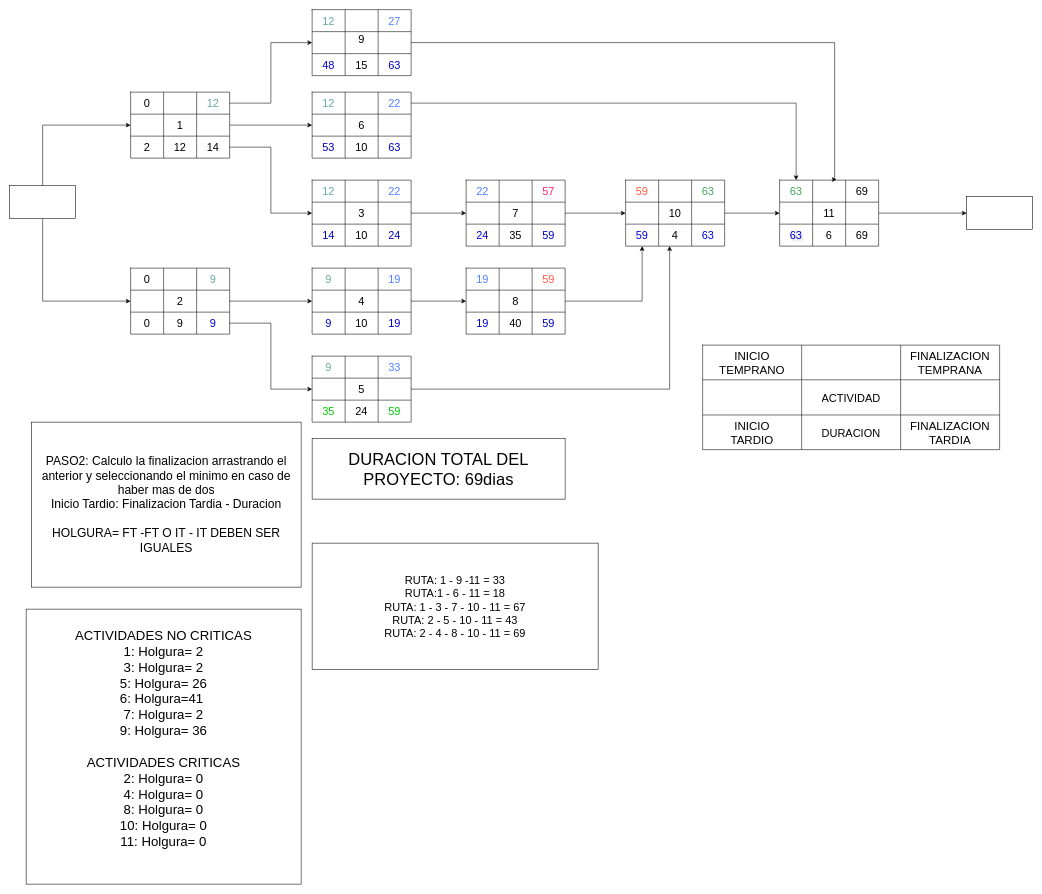
The diagram is 1042 pixels wide and 894 high, and some of its shapes have lost their labels. Each missing label, with the box of its shape:
FIN: (966, 196, 1033, 230)
INICIO: (9, 185, 76, 219)
